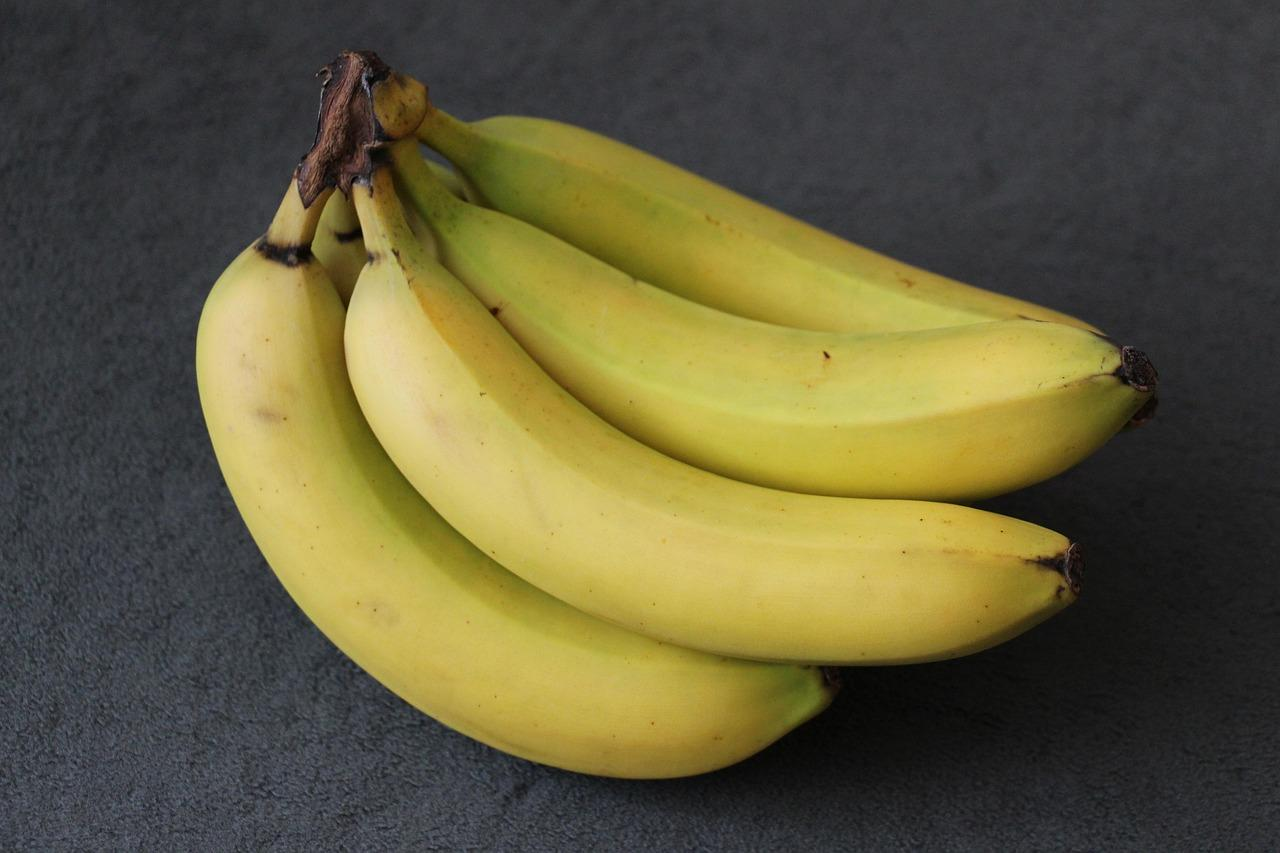banana: (170, 33, 1121, 776)
